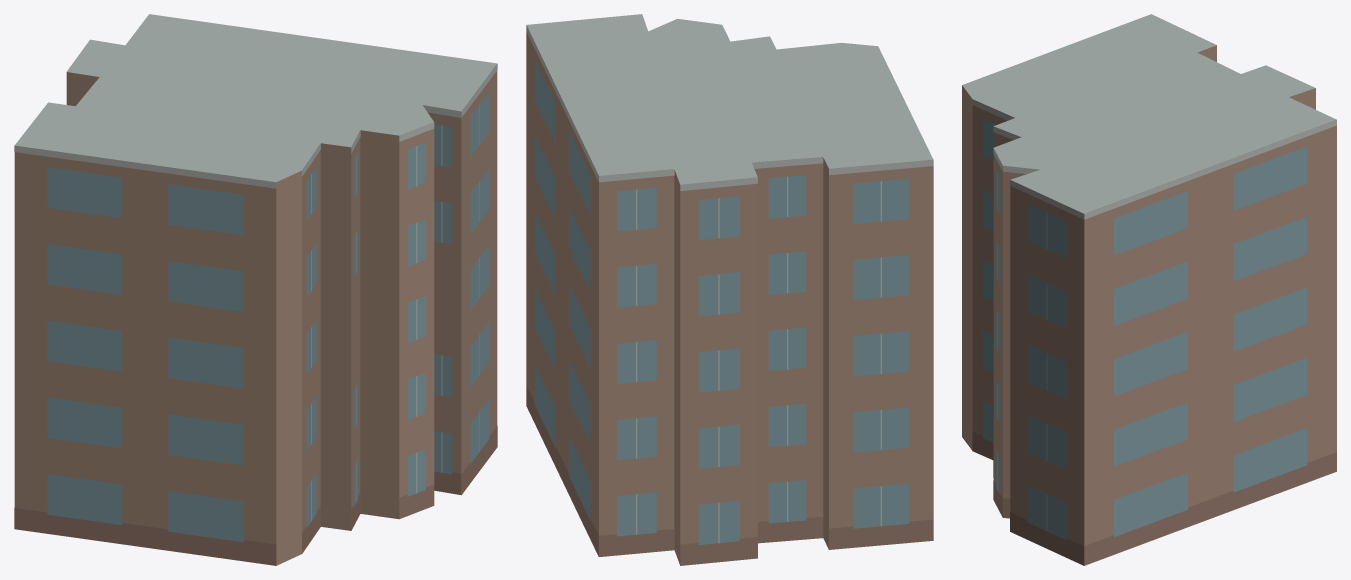
The model's file is survey-upis-32717206.glb.
3 renders of one model, left to right at view 1: azimuth 30°, elevation 25°; view 2: azimuth 150°, elevation 25°; view 3: azimuth 270°, elevation 25°, orthographic. The views are drawn at different scales.
Parts seen in each view (by area): view 1: survey-upis-32717206.tmp; view 2: survey-upis-32717206.tmp; view 3: survey-upis-32717206.tmp.
Part boxes in pixels (x1=…): survey-upis-32717206.tmp: x1=14, y1=14, x2=497, y2=565; survey-upis-32717206.tmp: x1=526, y1=14, x2=933, y2=565; survey-upis-32717206.tmp: x1=962, y1=14, x2=1336, y2=565.
Bounding box in the file's own units: 17.66 × 14.5 × 14.
